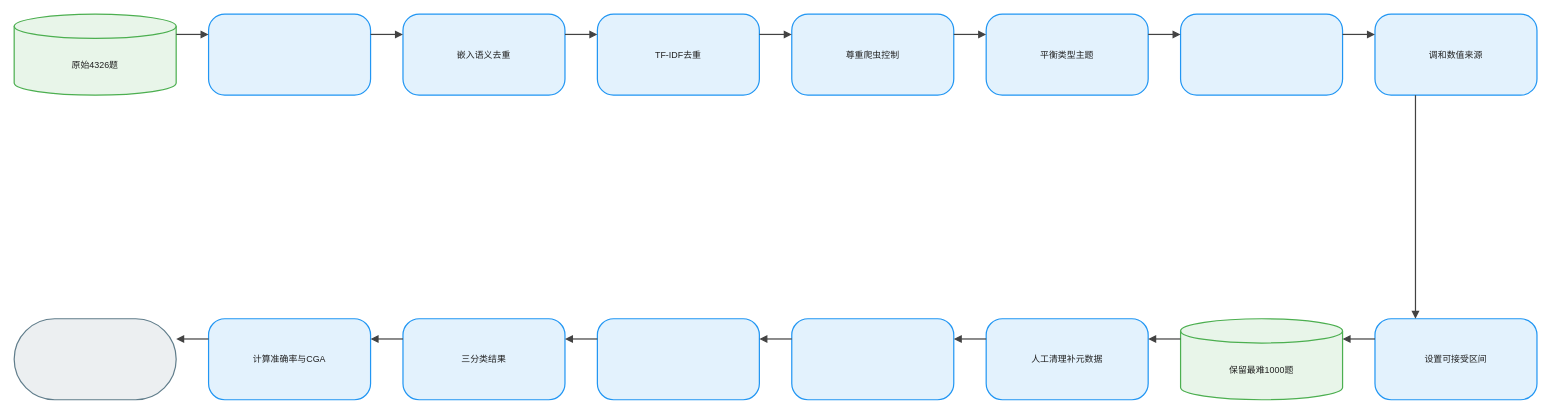
Some shapes in this 1552 by 415 pixel diagram are drawn without their labels. Here are the shapes that lost their labels. From the top down, the box of each, then its label:
(208, 13, 371, 95): 来源文档去重
(1180, 13, 1343, 95): 修正非数值真值
(13, 318, 176, 400): 报告调和F1
(596, 318, 760, 400): GPT-4.1判分
(791, 318, 954, 400): 无工具作答
